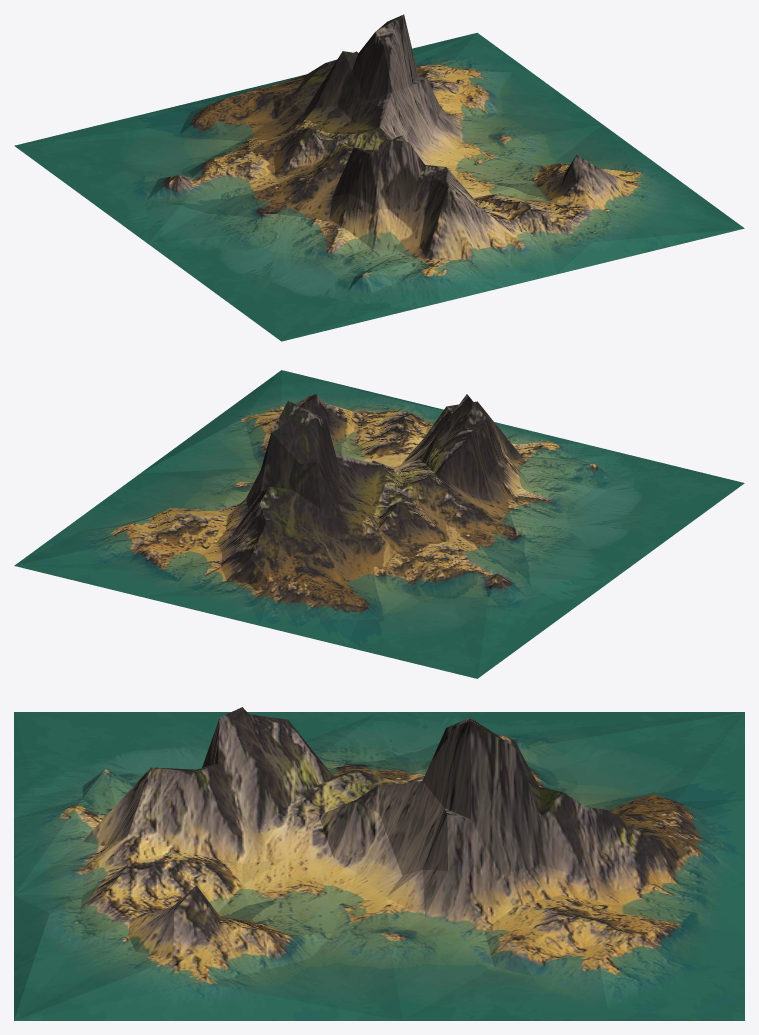
File: F_IsladeMuerta_01.fbx
3 renders of one model, top to bottom at view 1: azimuth 30°, elevation 25°; view 2: azimuth 150°, elevation 25°; view 3: azimuth 270°, elevation 25°, orthographic. The views are drawn at different scales.
Parts seen in each view (by area): view 1: F_Island_04; view 2: F_Island_04; view 3: F_Island_04.
Boxes of the visible parts, bbox=[...] form: F_Island_04: bbox=[14, 14, 744, 341]; F_Island_04: bbox=[14, 370, 744, 678]; F_Island_04: bbox=[14, 707, 744, 1020].
Size of the model in its own units: 6 by 1.66 by 6.
Materials: 1 (1 with a texture image).
